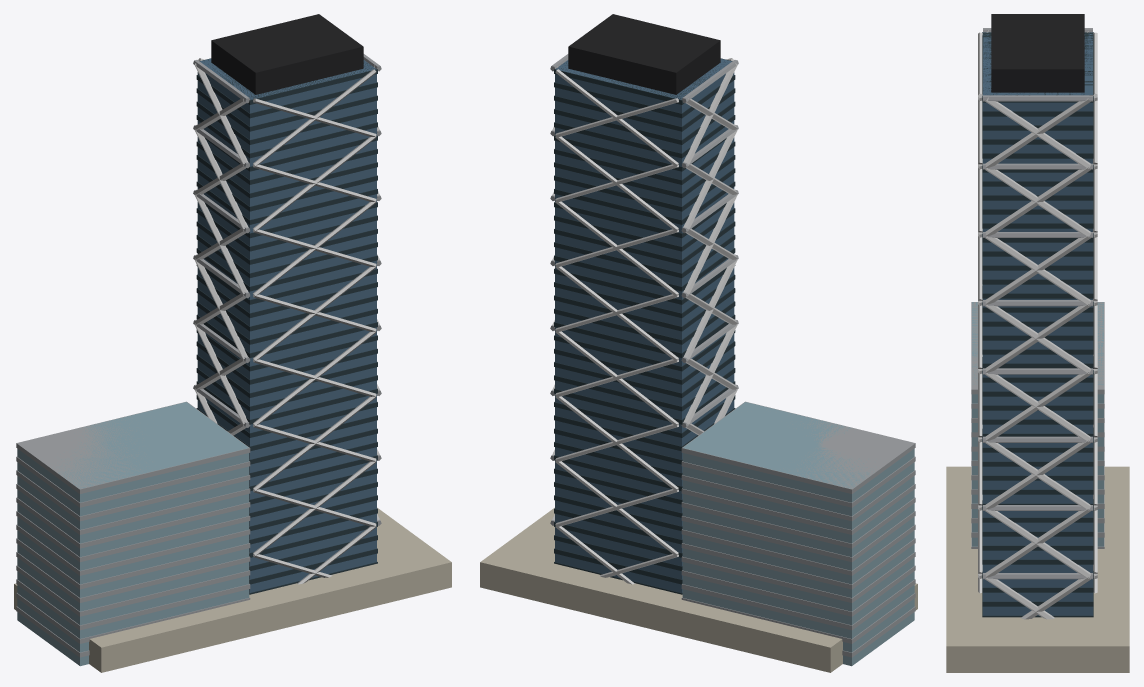
File: broadgate_tower.glb
3 views of the same model, side by side, from view 1: azimuth 30°, elevation 25°; view 2: azimuth 150°, elevation 25°; view 3: azimuth 270°, elevation 25° (orthographic). The views are drawn at different scales.
Parts seen in each view (by area): view 1: broadgate_tower; view 2: broadgate_tower; view 3: broadgate_tower.
Boxes of the visible parts, bbox=[...] form: broadgate_tower: bbox=[14, 14, 451, 672]; broadgate_tower: bbox=[480, 14, 917, 672]; broadgate_tower: bbox=[946, 14, 1129, 672].
Bounding box in the file's own units: 119 × 172 × 50.
